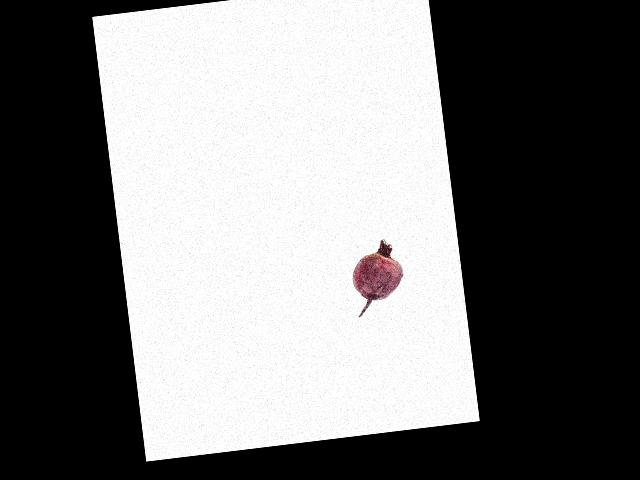beet: (348, 237, 406, 316)
